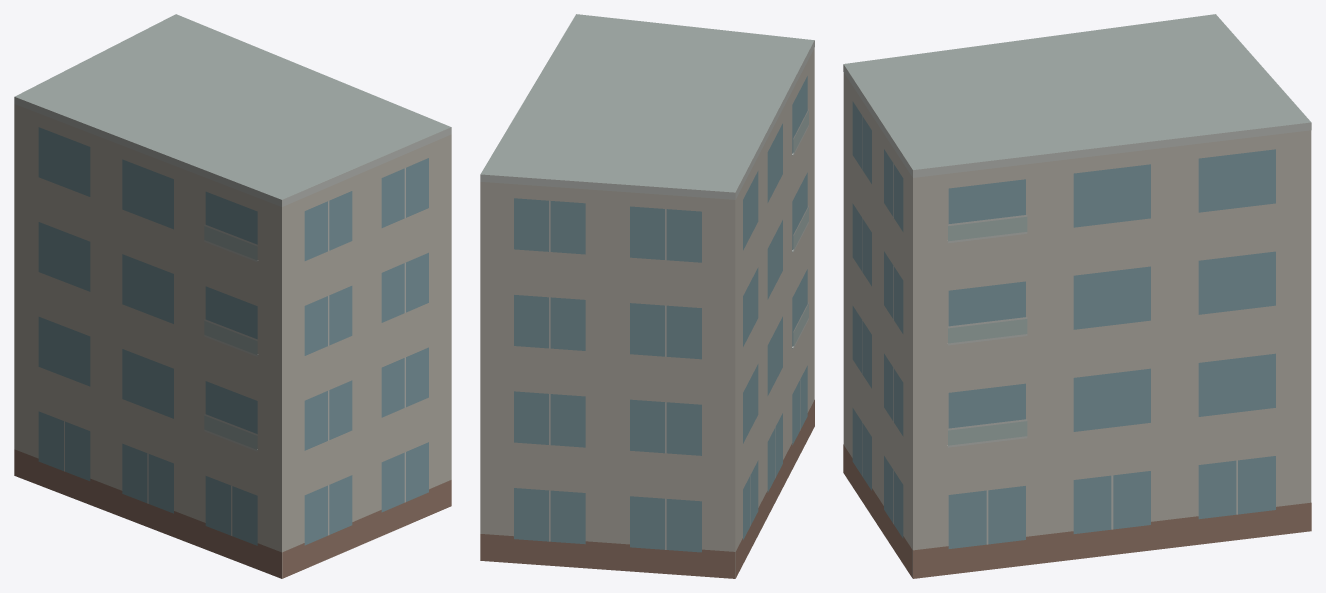
The model's file is survey-upis-32680232.glb.
3 renders of one model, left to right at view 1: azimuth 30°, elevation 25°; view 2: azimuth 150°, elevation 25°; view 3: azimuth 270°, elevation 25°, orthographic. The views are drawn at different scales.
Visible parts, largest first — view 1: survey-upis-32680232.tmp; view 2: survey-upis-32680232.tmp; view 3: survey-upis-32680232.tmp.
Boxes of the visible parts, bbox=[...] form: survey-upis-32680232.tmp: bbox=[14, 14, 451, 578]; survey-upis-32680232.tmp: bbox=[480, 14, 814, 578]; survey-upis-32680232.tmp: bbox=[843, 14, 1311, 578].
Bounding box in the file's own units: 10.5 × 12.8 × 13.29.
